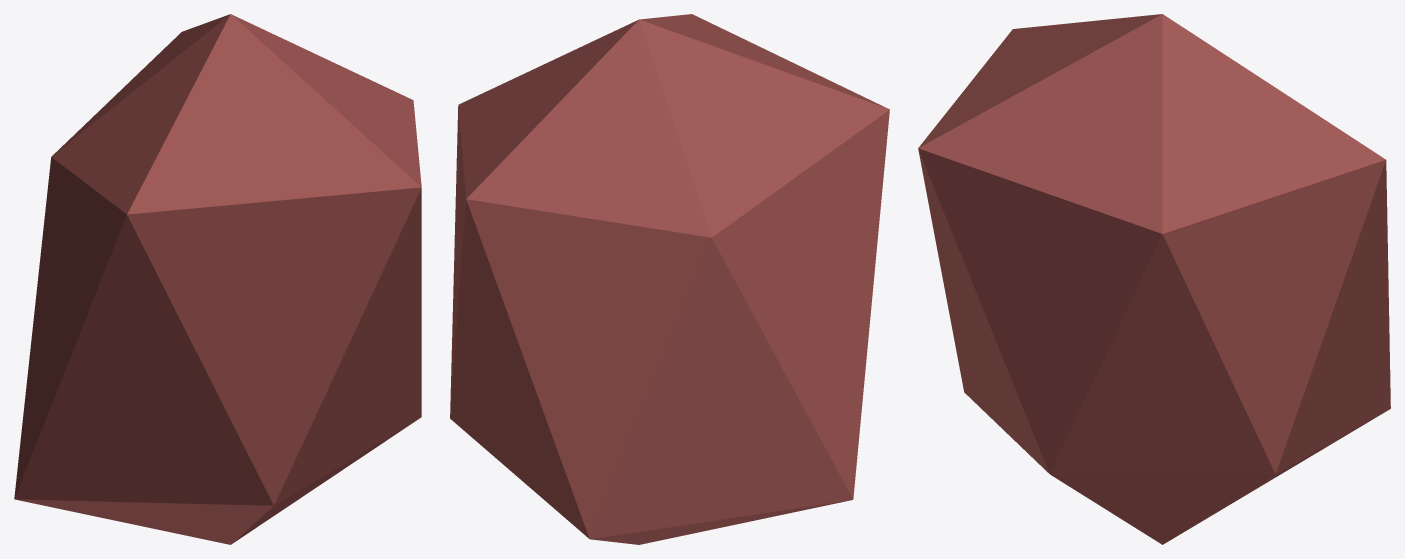
File: rock_2.glb
The picture shows the model from 3 angles, left to right: view 1: azimuth 30°, elevation 25°; view 2: azimuth 150°, elevation 25°; view 3: azimuth 270°, elevation 25°; orthographic projection.
Parts seen in each view (by area): view 1: rock_2; view 2: rock_2; view 3: rock_2.
Part boxes in pixels (bbox=[...]): rock_2: bbox=[14, 14, 421, 544]; rock_2: bbox=[450, 14, 889, 544]; rock_2: bbox=[918, 14, 1390, 544].
Size of the model in its own units: 1.64 by 2.08 by 1.68.
